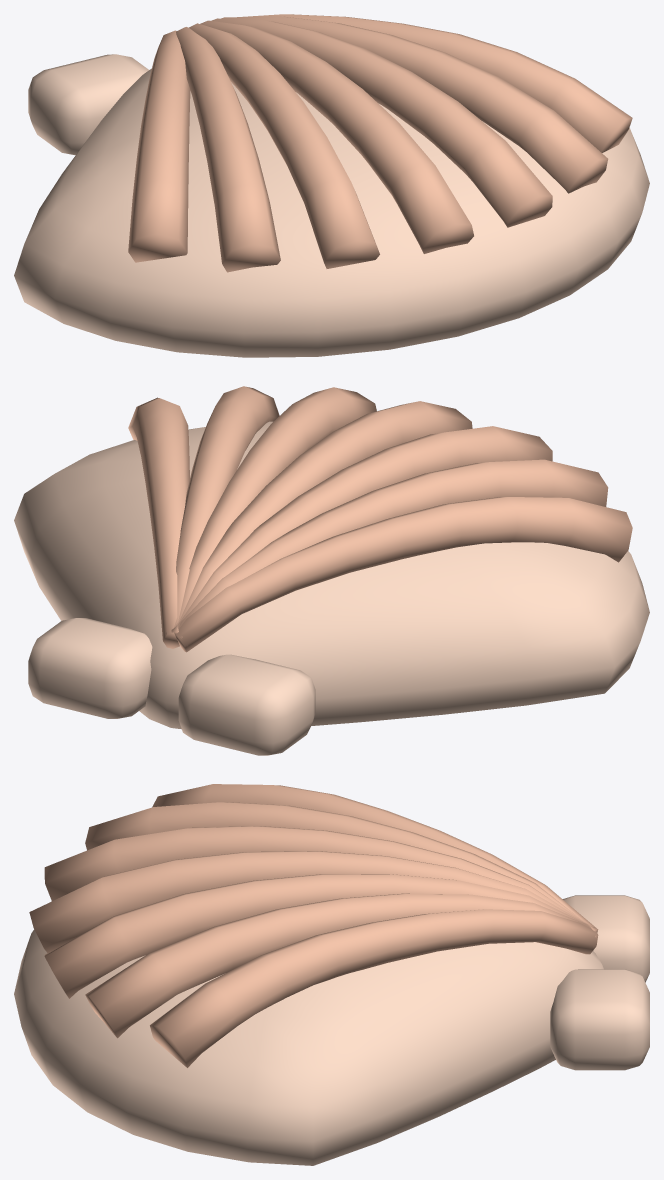
The model's file is shell.glb.
3 renders of one model, top to bottom at view 1: azimuth 30°, elevation 25°; view 2: azimuth 150°, elevation 25°; view 3: azimuth 270°, elevation 25°, orthographic.
Parts seen in each view (by area): view 1: shell.001; view 2: shell.001; view 3: shell.001.
Boxes of the visible parts, <box> form: shell.001: <box>14,14,649,357</box>; shell.001: <box>14,386,649,755</box>; shell.001: <box>14,784,649,1165</box>.
Bounding box in the file's own units: 0.28 × 0.078 × 0.255.
